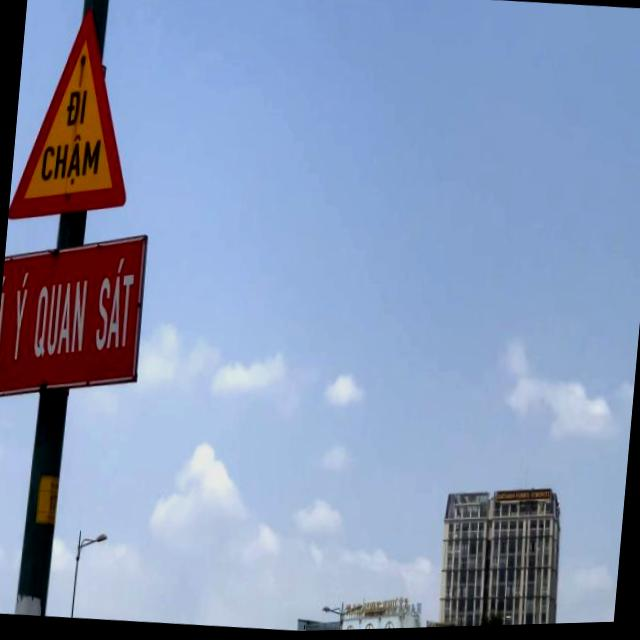Di cham: (7, 0, 145, 234)
